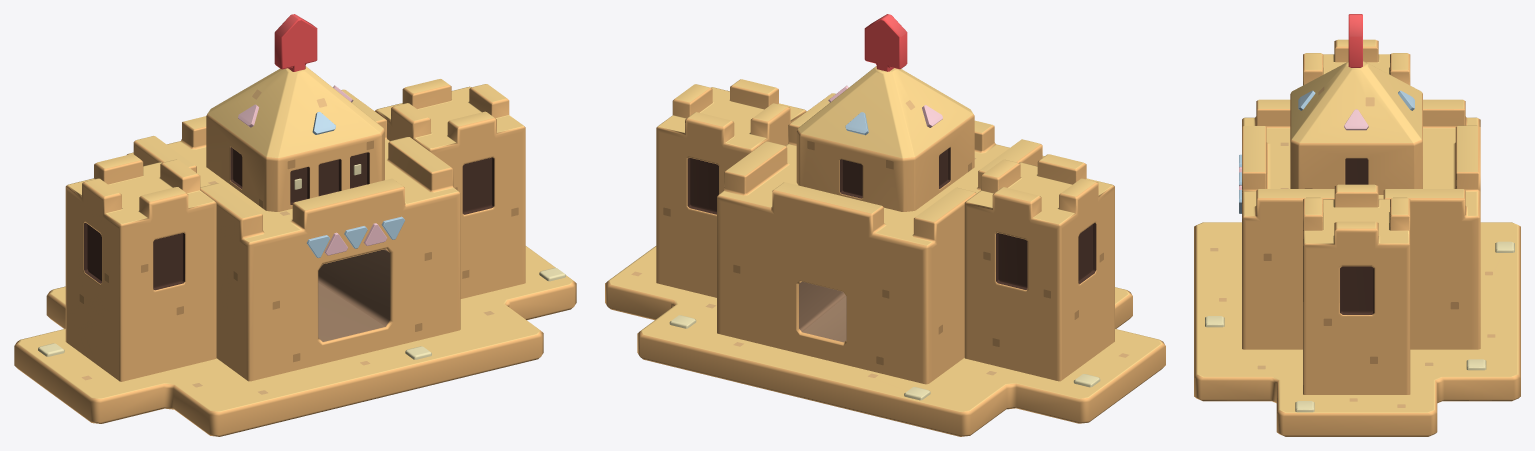
3 views of the same model, side by side, from view 1: azimuth 30°, elevation 25°; view 2: azimuth 150°, elevation 25°; view 3: azimuth 270°, elevation 25° (orthographic). The views are drawn at different scales.
Parts seen in each view (by area): view 1: 0770_palossand; view 2: 0770_palossand; view 3: 0770_palossand.
Boxes of the visible parts, x1,y1,x2,y2 form: 0770_palossand: (14, 14, 576, 436); 0770_palossand: (605, 14, 1165, 436); 0770_palossand: (1194, 14, 1520, 436).
Bounding box in the file's own units: 4.07 × 2.57 × 2.46.
Materials: 1 (1 with a texture image).
